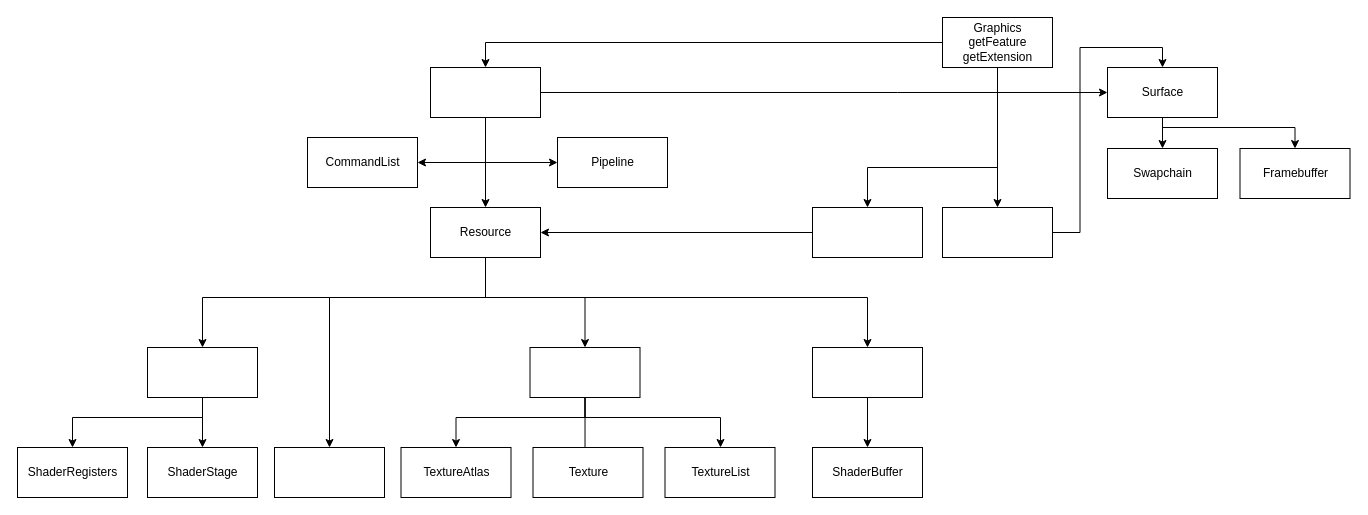
Some shapes in this 1368 by 515 pixel diagram are drawn without their labels. Each missing label, with the box of its shape:
GPUBuffer: (812, 346, 922, 398)
GraphicsObject: (430, 66, 540, 118)
ResourceManager: (812, 206, 922, 258)
Sampler: (274, 446, 384, 498)
Shader: (146, 346, 258, 398)
SurfaceManager: (942, 206, 1052, 258)
TextureObject: (529, 346, 640, 398)
